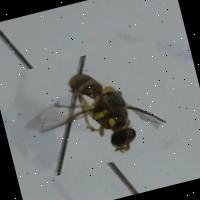Oriental-fruit-fly: (7, 39, 179, 182)
